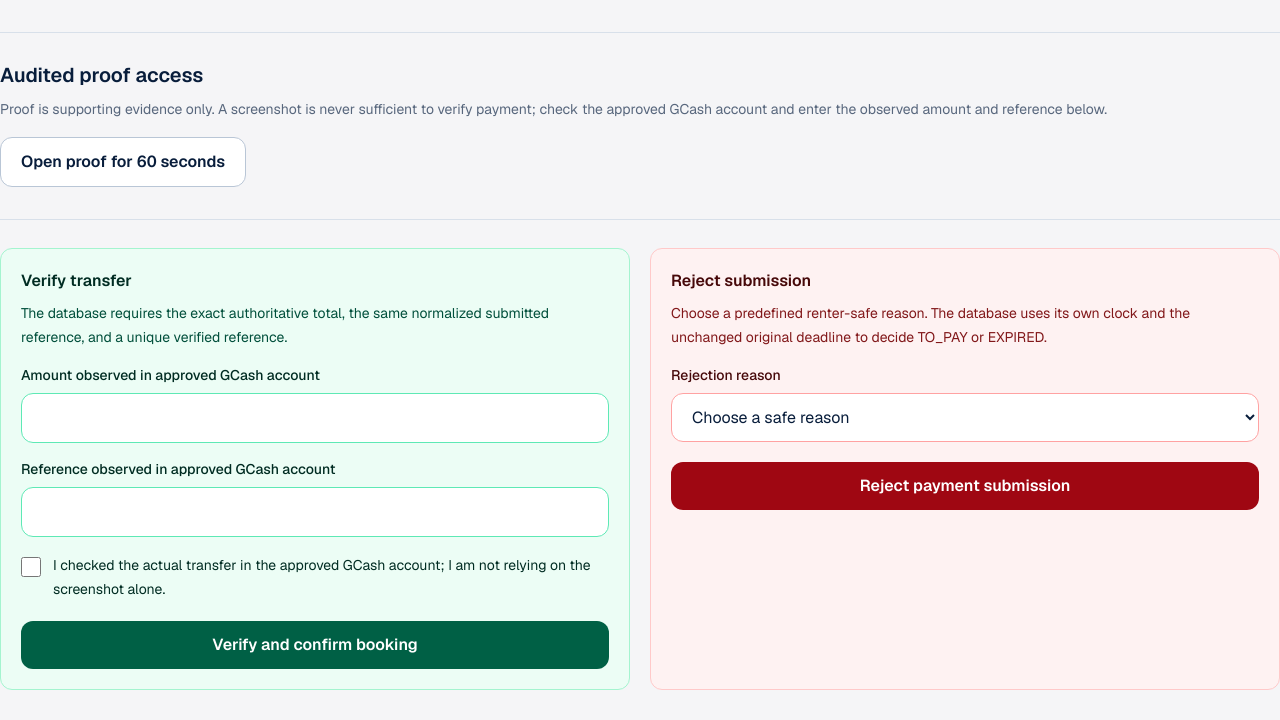
Test: preserves observed transfer details after a validation failure and permits correction
Step 1. Type "6001" into the field labelled "Amount observed in approved GCash account" → [315, 418], box [21, 393, 609, 443]
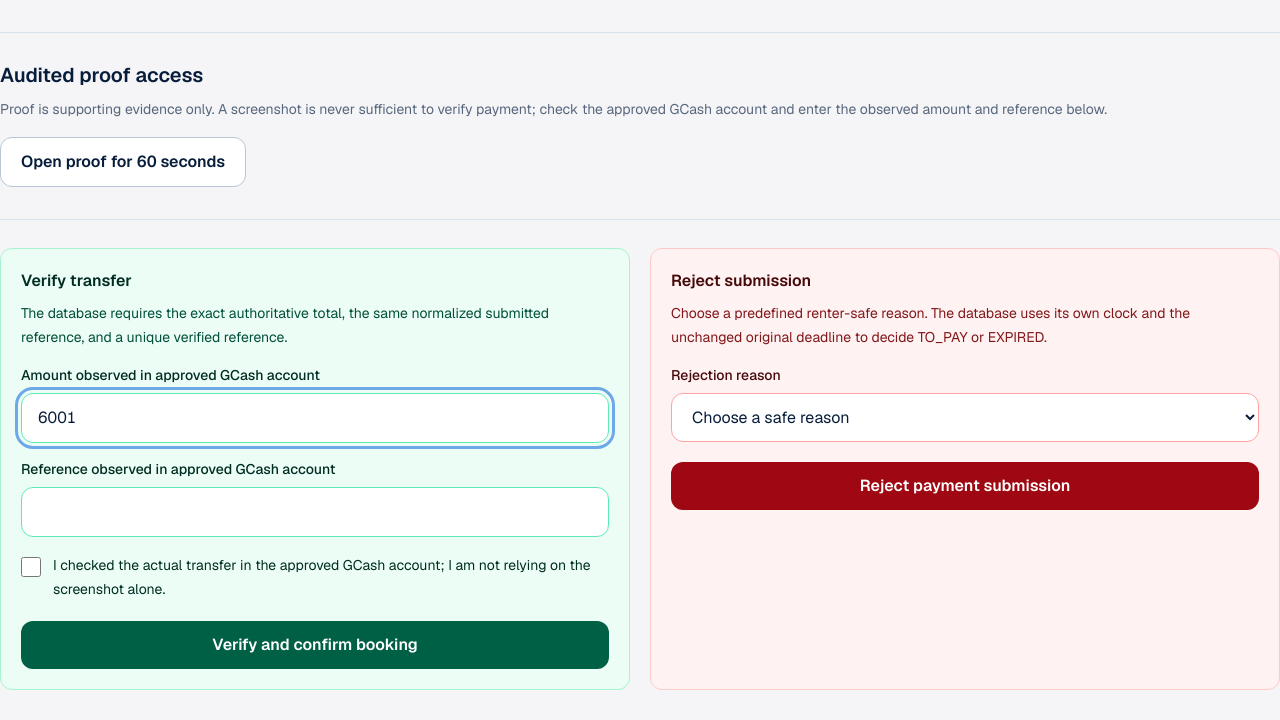
Step 2. Type "SYNTHETIC-REFERENCE" into the field labelled "Reference observed in approved GCash account" → [315, 512], box [21, 487, 609, 537]
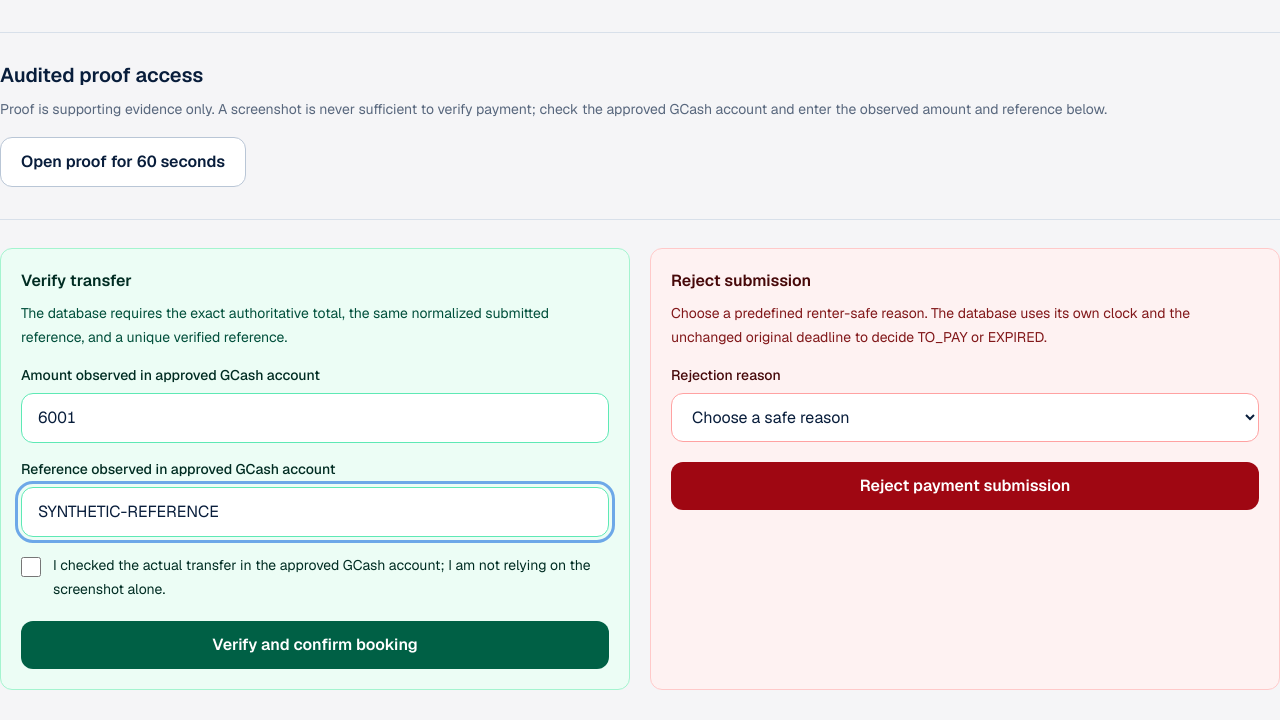
Step 3. Click the checkbox → [31, 567], box [21, 557, 41, 577]
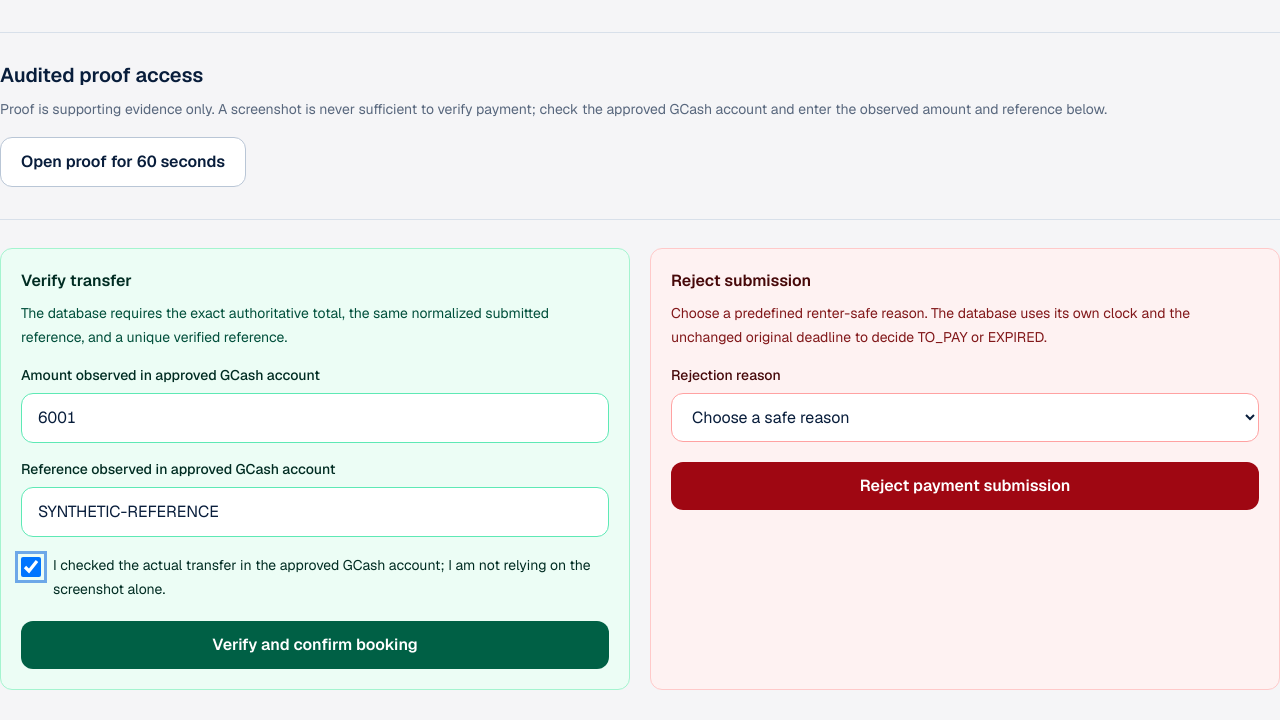
Step 4. Click the button "Verify and confirm booking" → [315, 645], box [21, 621, 609, 669]
(page scrolled)
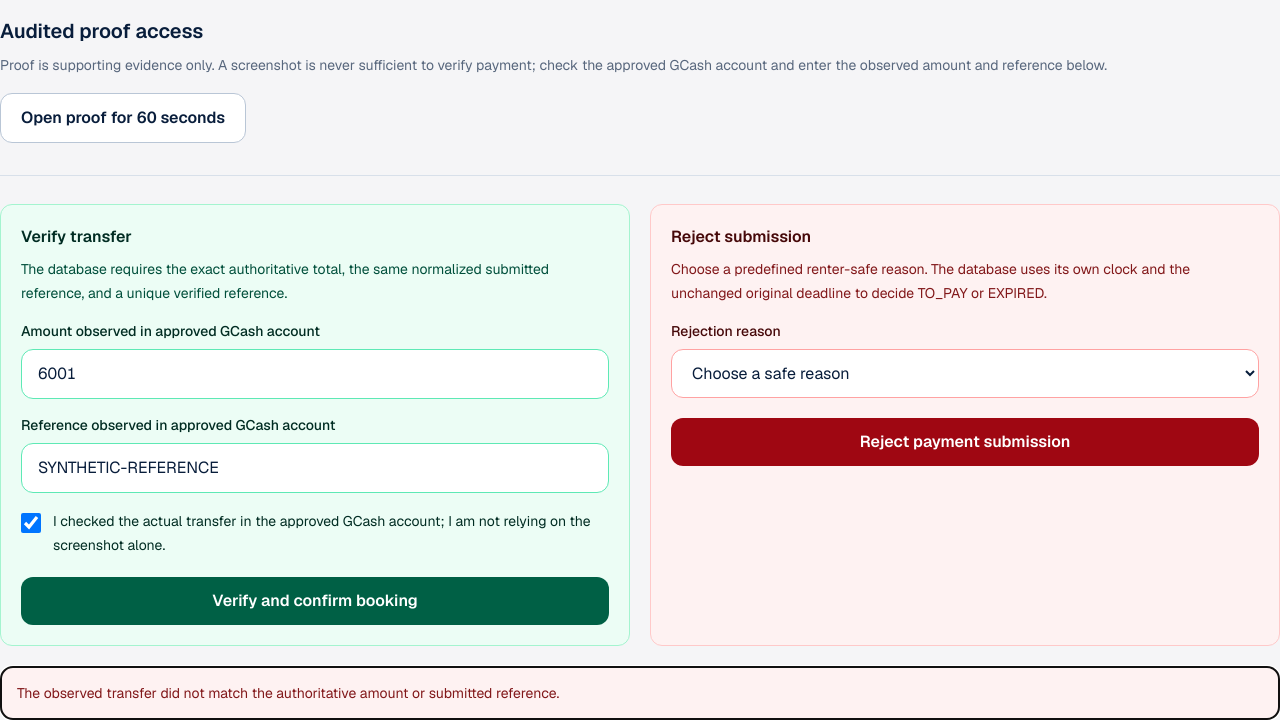
Check: the text "The observed transfer did not match the authoritative amount or submitted reference." is shown, box [17, 684, 559, 702]
Step 5. Replace the text in the field labelled "Amount observed in approved GCash account" with "6000" → [315, 374], box [21, 349, 609, 399]
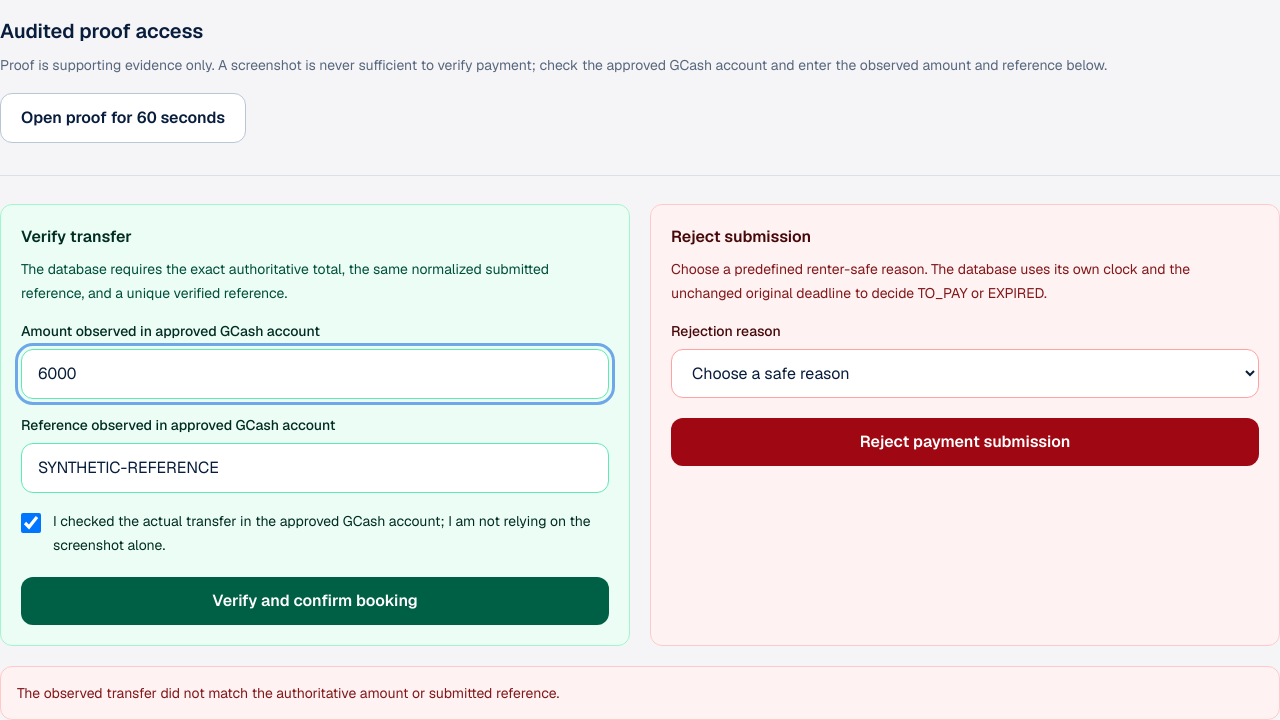
Step 6. Click the button "Verify and confirm booking" → [315, 601], box [21, 577, 609, 625]
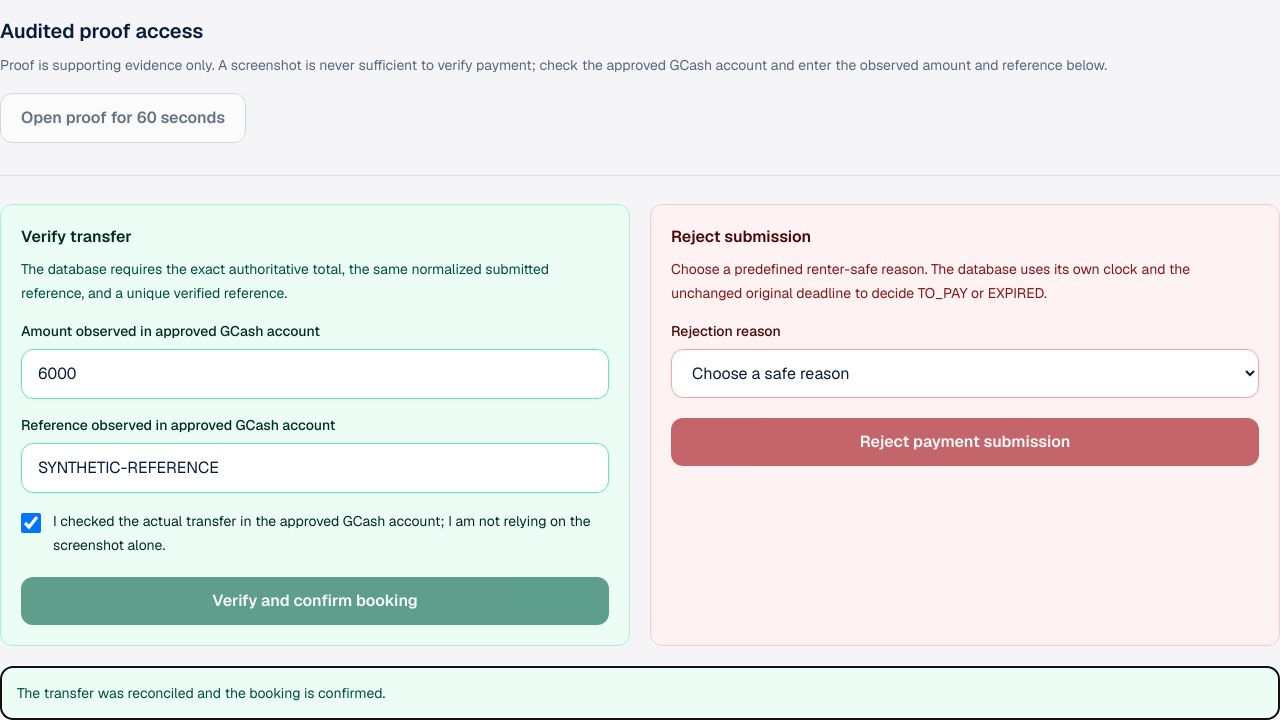
Check: the text "The transfer was reconciled and the booking is confirmed." is shown, box [0, 666, 1279, 719]
Check: the button "Verify and confirm booking" is disabled, box [21, 577, 609, 625]
